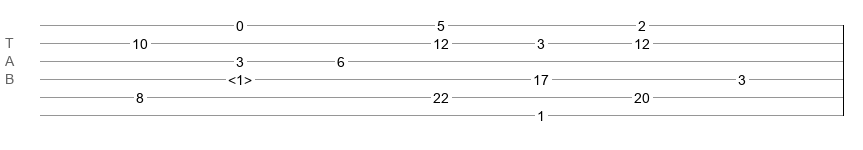0: (236, 18, 244, 28)
1: (537, 108, 545, 118)
10: (132, 36, 148, 46)
12: (433, 36, 449, 46), (634, 36, 650, 46)
17: (533, 72, 549, 82)
2: (638, 18, 646, 28)
20: (634, 90, 650, 100)
22: (433, 90, 449, 100)
3: (236, 54, 244, 64), (537, 36, 545, 46), (738, 72, 746, 82)
5: (437, 18, 445, 28)
6: (337, 54, 345, 64)
8: (136, 90, 144, 100)
harmonic: (228, 72, 252, 82)
